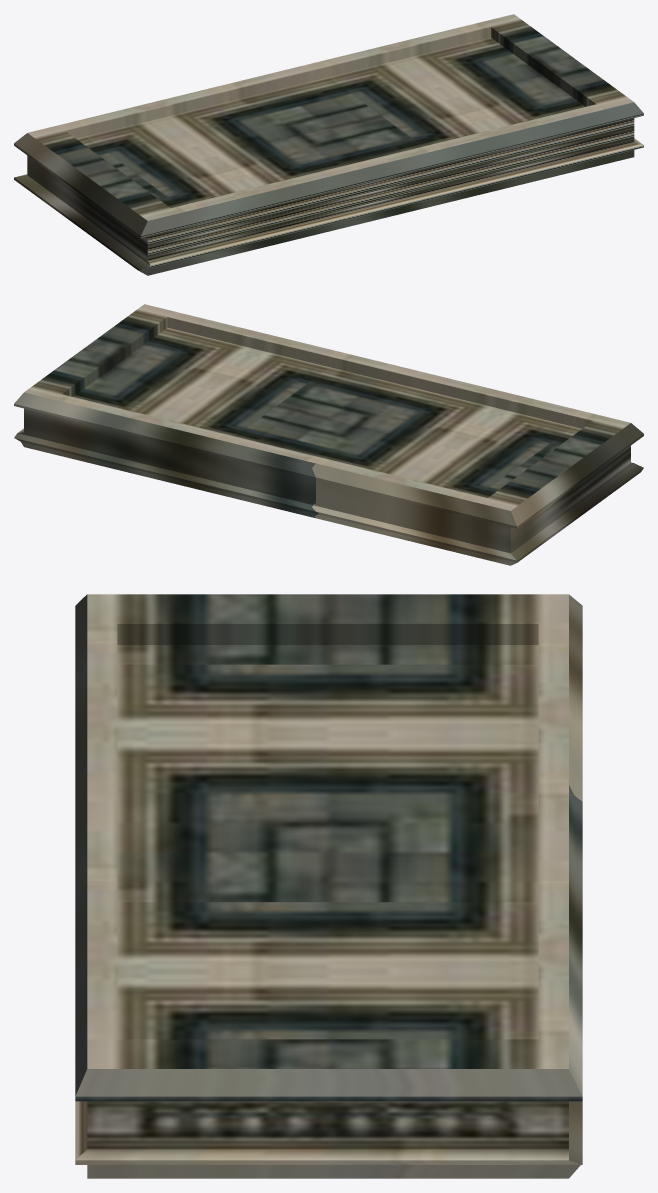
File: outland_platform01.fbx
3 views of the same model, one above another, from view 1: azimuth 30°, elevation 25°; view 2: azimuth 150°, elevation 25°; view 3: azimuth 270°, elevation 25° (orthographic). The views are drawn at different scales.
Visible parts, largest first — view 1: Cube; view 2: Cube; view 3: Cube.
Part boxes in pixels (bbox=[...]): Cube: bbox=[14, 14, 643, 275]; Cube: bbox=[14, 304, 643, 565]; Cube: bbox=[75, 594, 582, 1178].
Bounding box in the file's own units: 1448 × 151 × 632.
Materials: 3 (3 with a texture image).
